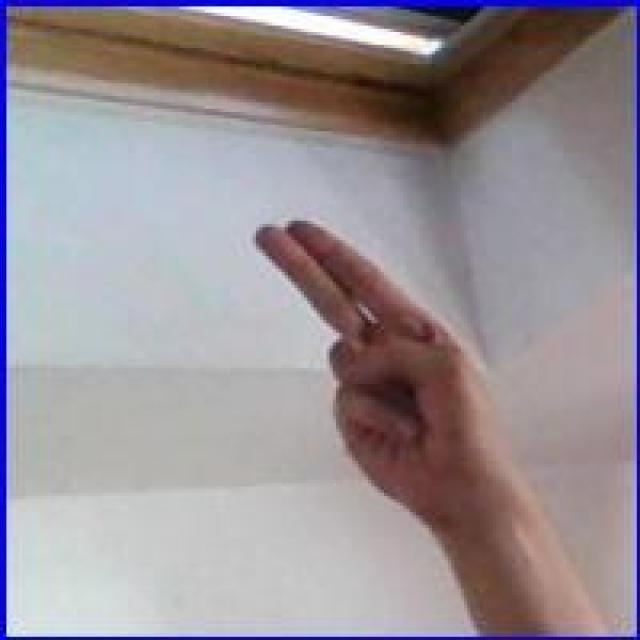H: (253, 214, 509, 532)
